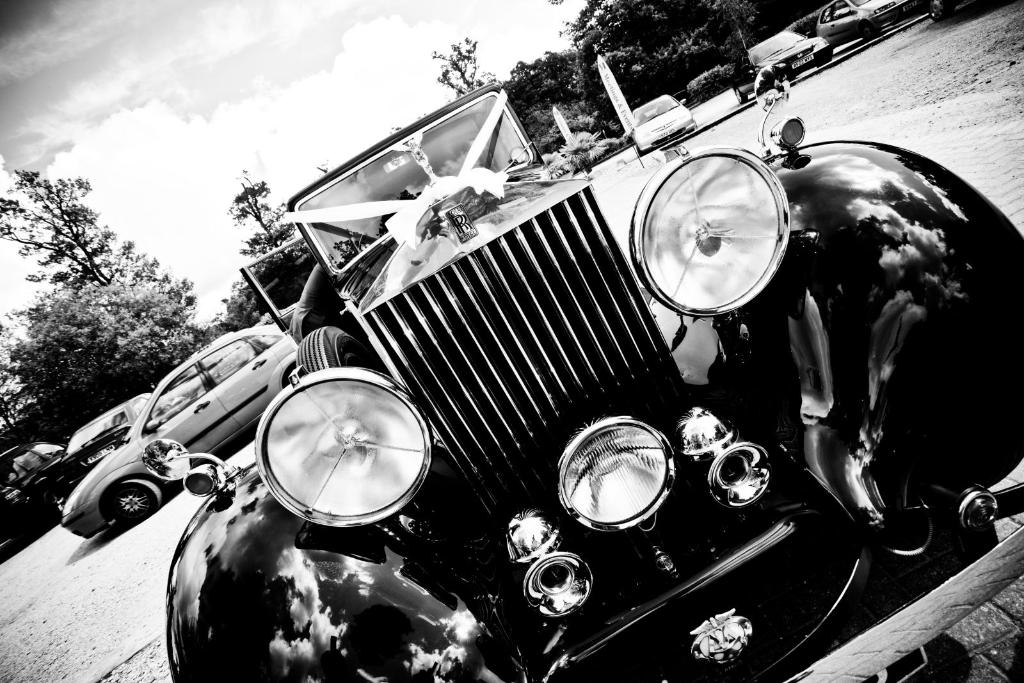mobil: (60, 320, 301, 552)
